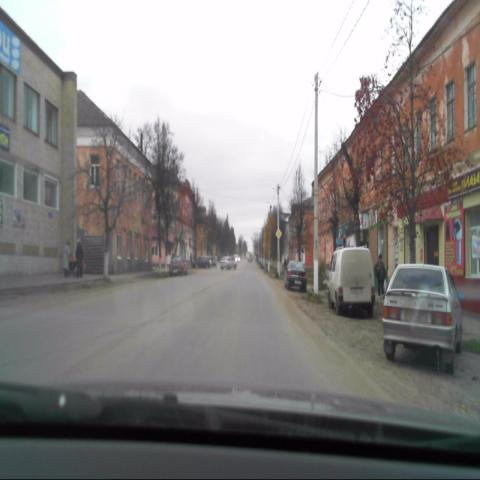2_1: (275, 227, 283, 240)
